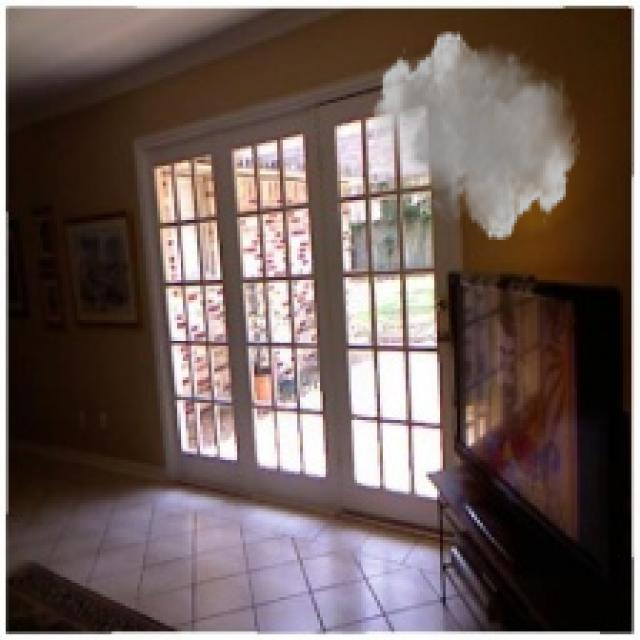Smoke: (368, 28, 580, 243)
